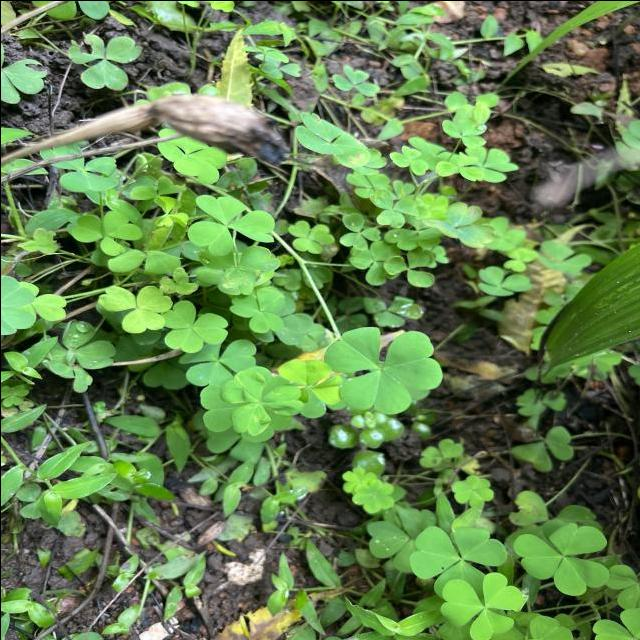Oxalis corniculata: (322, 324, 442, 414), (511, 521, 610, 596), (408, 524, 509, 596), (438, 570, 526, 640), (218, 368, 302, 436), (186, 193, 275, 257), (294, 111, 372, 168), (66, 33, 142, 90), (160, 298, 228, 354), (96, 284, 172, 334), (422, 200, 494, 248), (70, 209, 143, 256), (229, 288, 285, 332), (367, 188, 419, 228), (435, 150, 485, 182), (388, 144, 428, 176)
